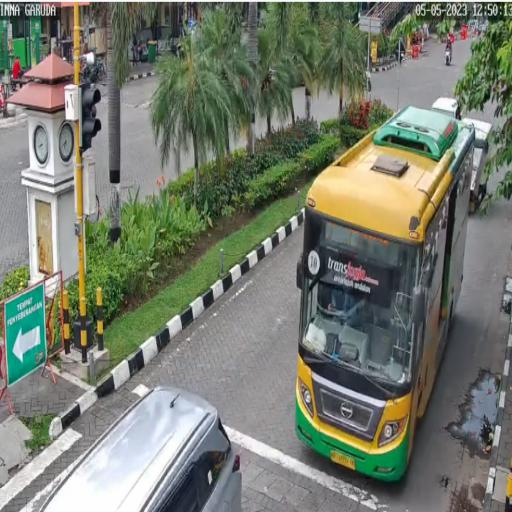mobil: (297, 106, 475, 491)
